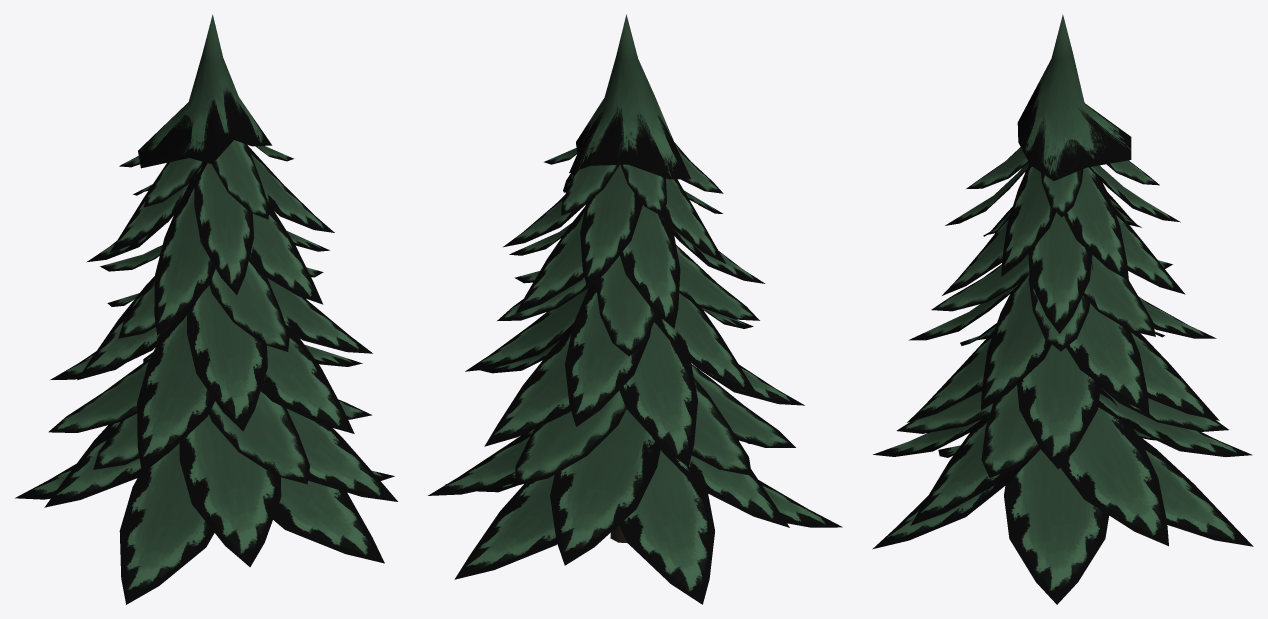
Rendered from env_tree_spruce_04.fbx.
The picture shows the model from 3 angles, left to right: view 1: azimuth 30°, elevation 25°; view 2: azimuth 150°, elevation 25°; view 3: azimuth 270°, elevation 25°; orthographic projection. The views are drawn at different scales.
Visible parts, largest first — view 1: tree_9472; view 2: tree_9472; view 3: tree_9472.
Part boxes in pixels (x1,y1,x2,y2): tree_9472: (15,14,397,604); tree_9472: (428,14,842,604); tree_9472: (872,14,1253,604).
Bounding box in the file's own units: 304 × 431 × 293.
Materials: 1 (1 with a texture image).
